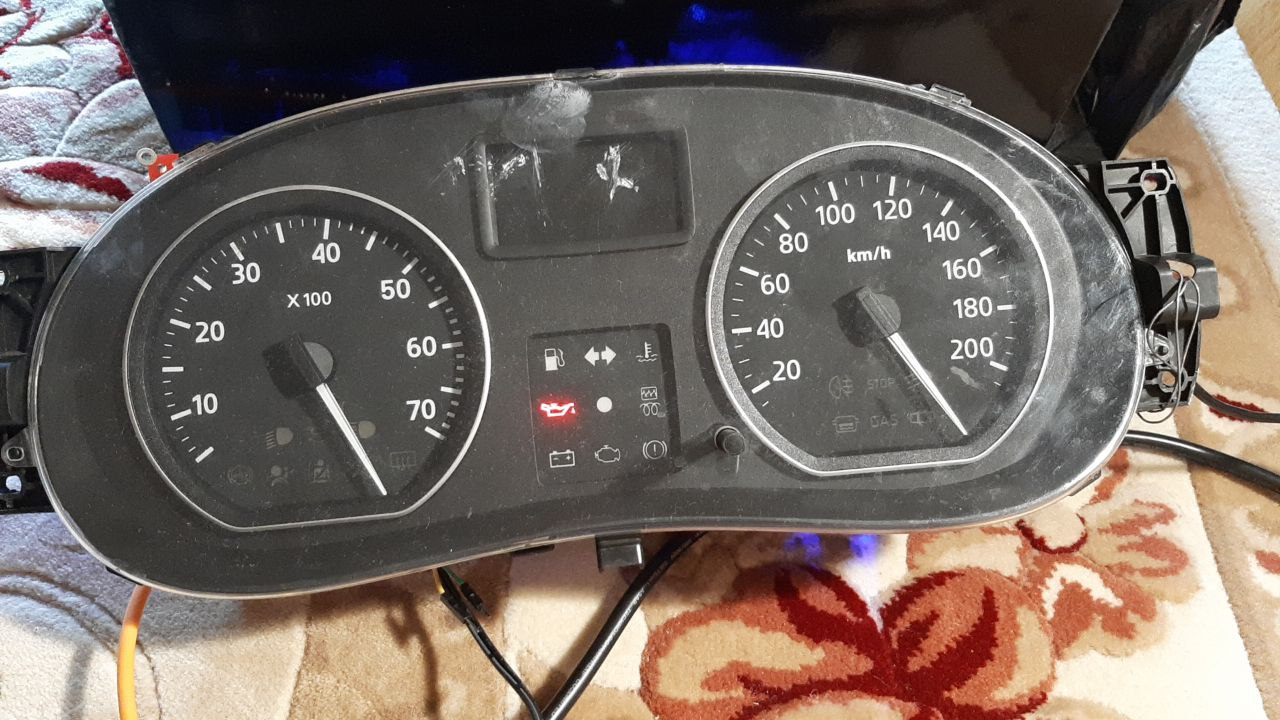oil: (534, 396, 576, 418)
